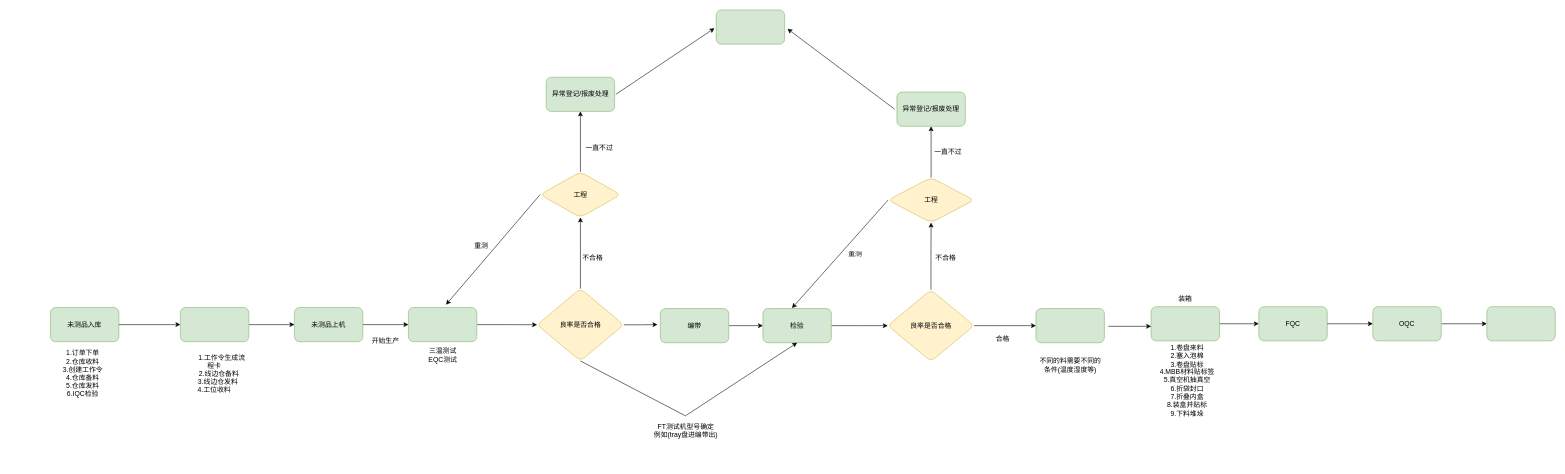
Some shapes in this 1565 by 474 pixel diagram are drawn without their labels. Here are the shapes that lost their labels. From the top down, the centre of each, then its label:
At (x=750, y=26): "退返".
At (x=214, y=324): "未测品上线".
At (x=442, y=324): "测试".
At (x=1069, y=325): "烘烤".
At (x=1185, y=323): "包装".
At (x=1520, y=323): "发料完工".
